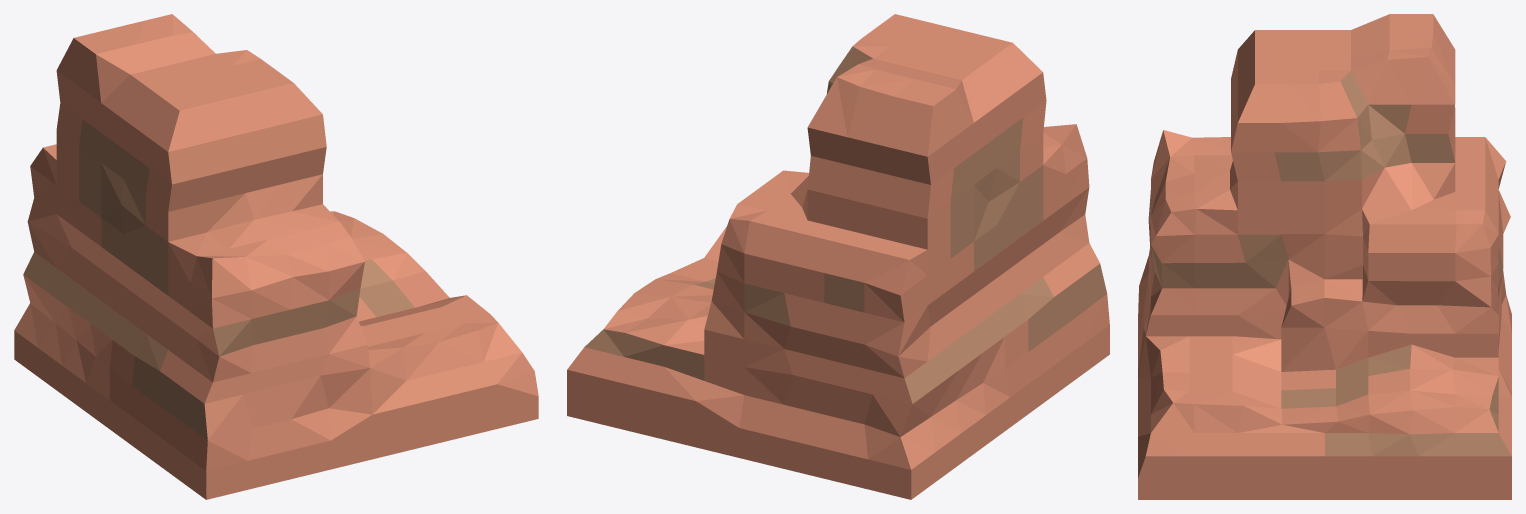
File: rock1.fbx
The picture shows the model from 3 angles, left to right: view 1: azimuth 30°, elevation 25°; view 2: azimuth 150°, elevation 25°; view 3: azimuth 270°, elevation 25°; orthographic projection. The views are drawn at different scales.
Visible parts, largest first — view 1: Plane; view 2: Plane; view 3: Plane.
Boxes of the visible parts, left/top/right/bottom form: Plane: left=14, top=14, right=538, bottom=499; Plane: left=567, top=14, right=1109, bottom=499; Plane: left=1138, top=14, right=1511, bottom=499.
Size of the model in its own units: 1293 by 1296 by 1293.
